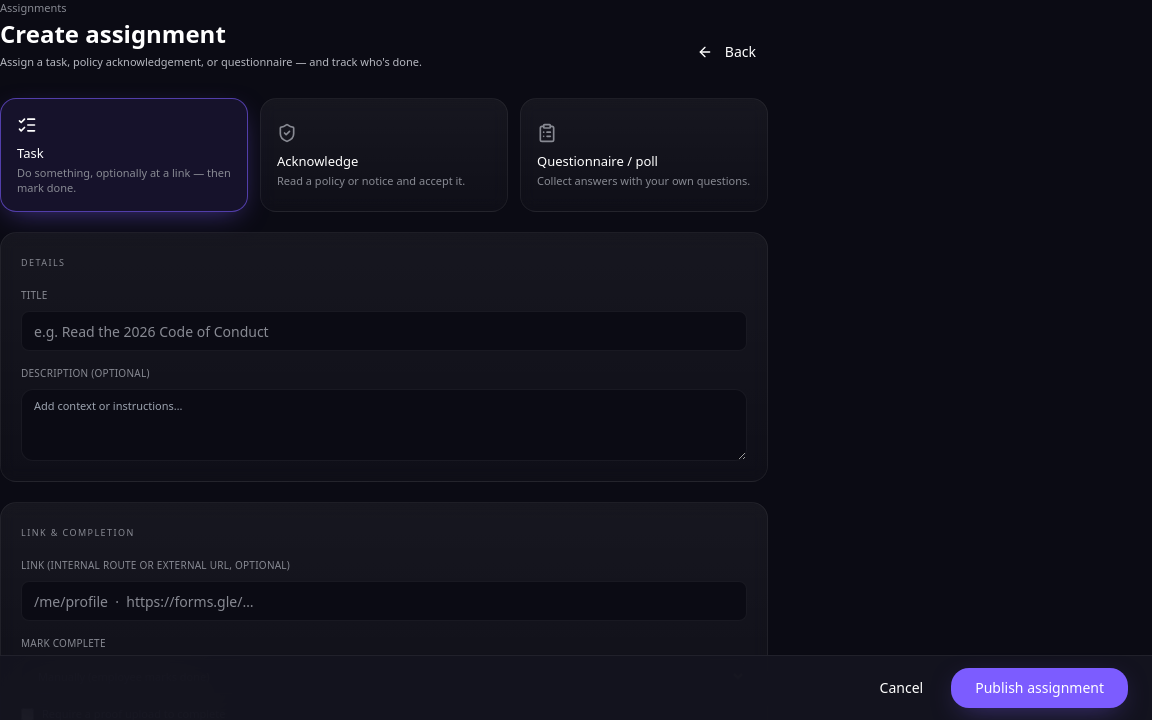
Test: AssignmentCreatePage › reveals the question builder for questionnaires
Click the button that starts with "Questionnaire / poll": (644, 155) [520,98,768,212]
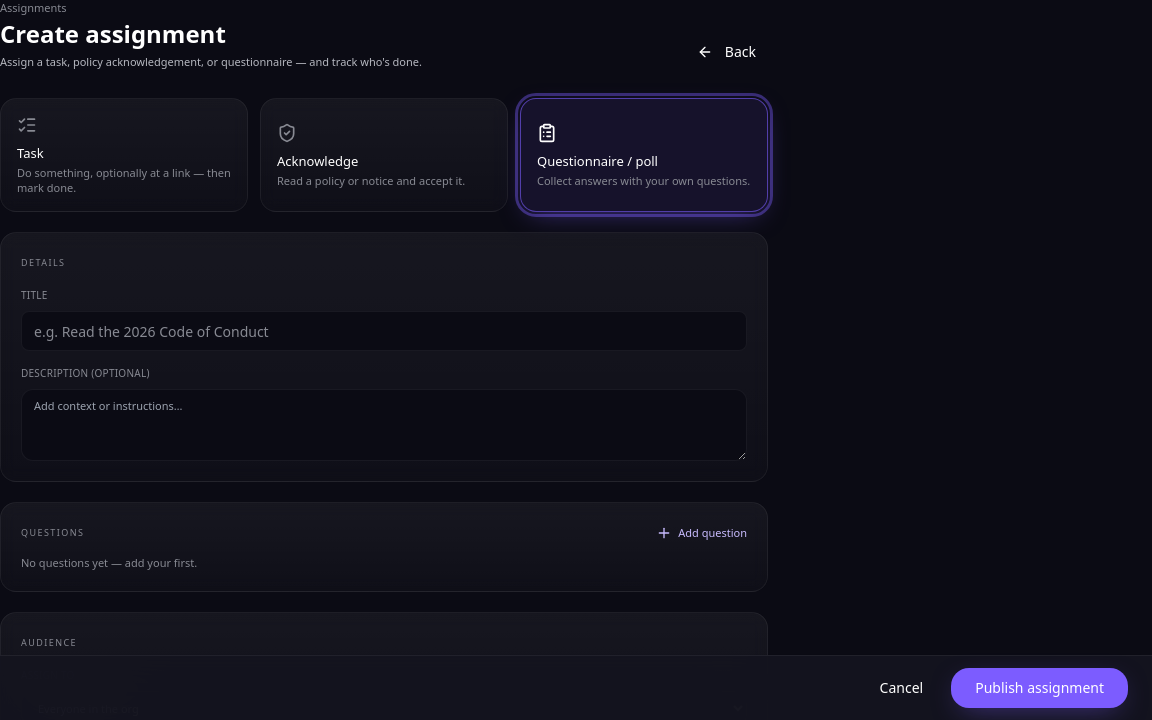
Expected: the text "Questions" is shown, [21,523,84,543]
Click the button "Add question": (702, 533) [656,525,747,541]
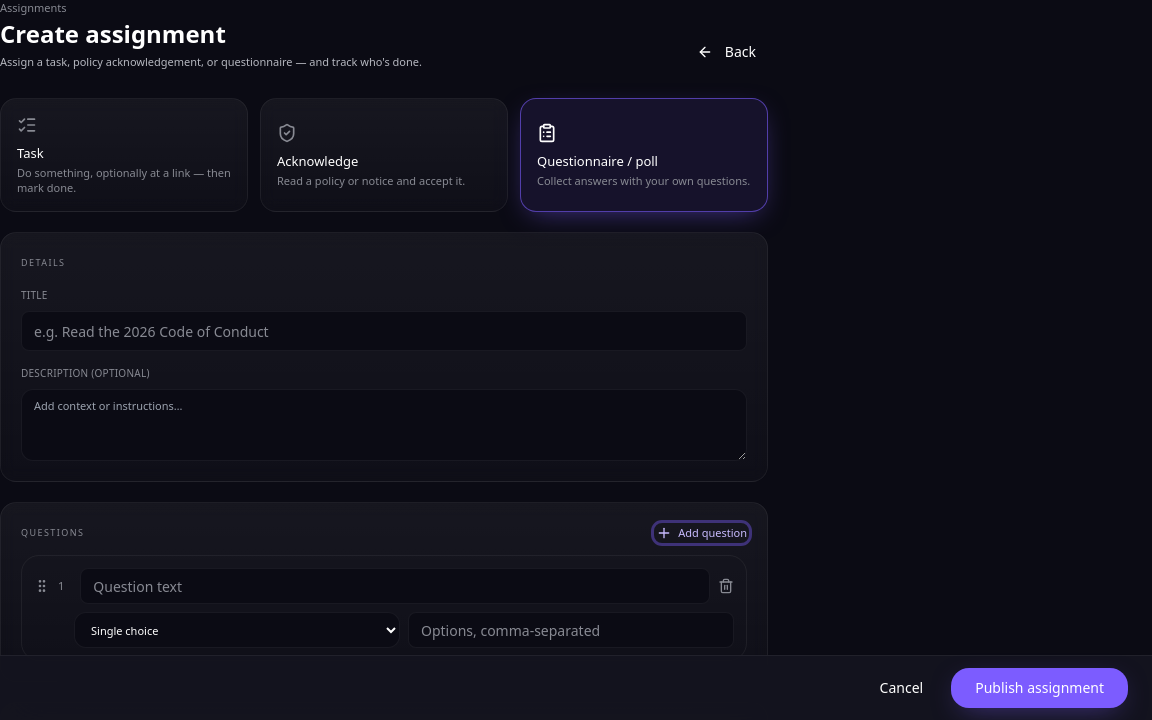
Expected: the field with placeholder "Question text" is shown, [80,568,710,604]
